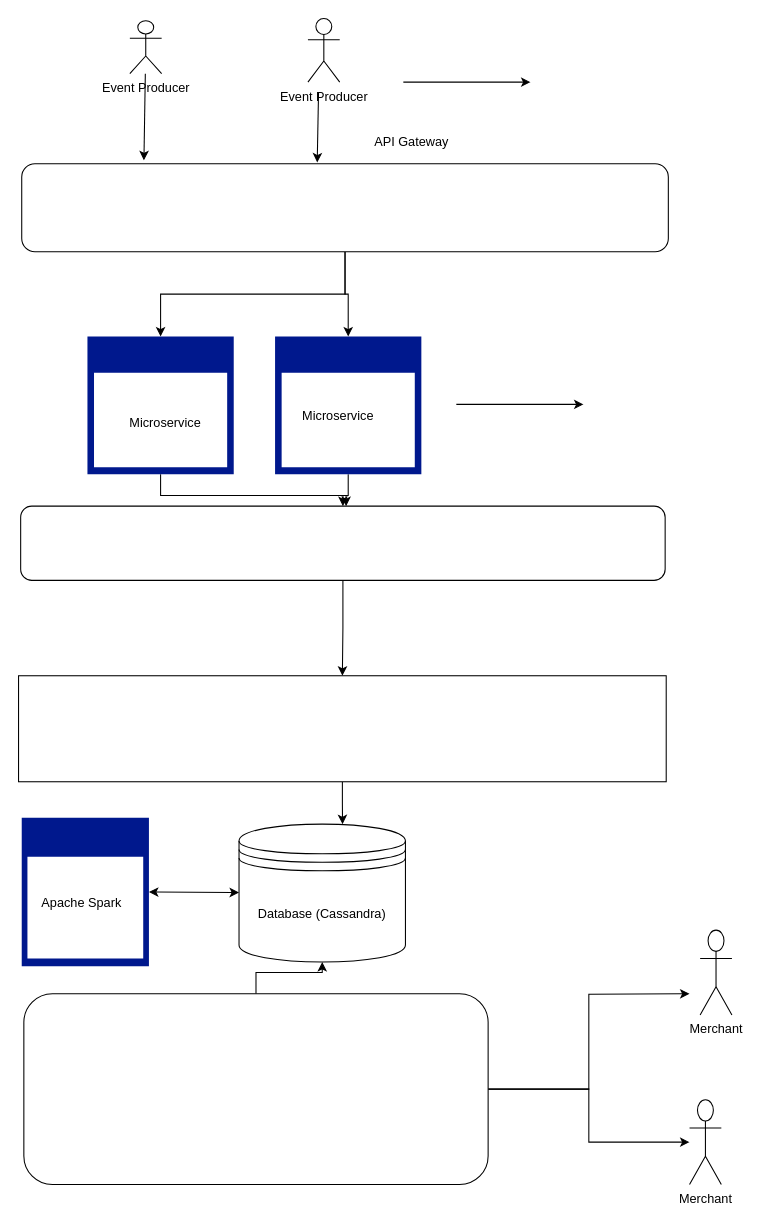
Some shapes in this 761 by 1225 pixel diagram are drawn without their labels. The shapes that lost their labels are listed below. From the top down, each one's box as (x1, y1, x2, y2) in pixels, then its label:
(21, 163, 668, 252): Load Balancer Reverse Proxy / Service Discovery
(20, 505, 665, 580): Apache Kafka
(17, 675, 666, 782): Persistence Layer / Business Layer (Microservice (Spring Cloud Stream))
(23, 993, 488, 1185): Frontend Application(Angular/React) + Backed(Spring boot)
